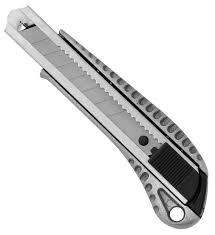knife: (2, 1, 210, 231)
